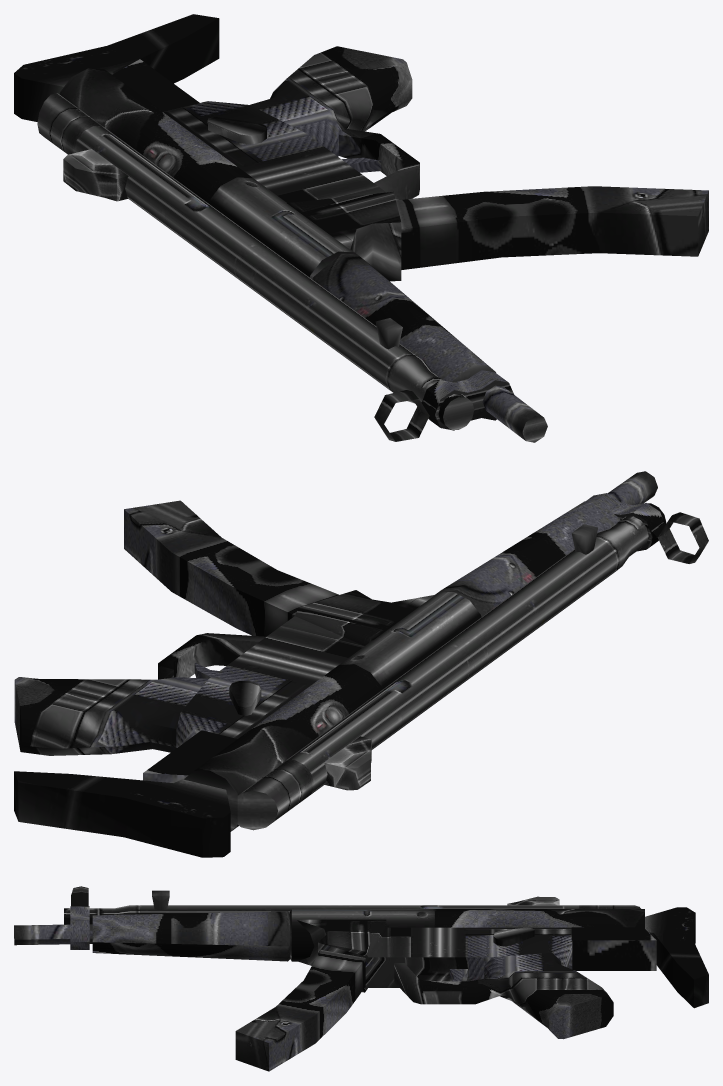
The model's file is Machine_Gun.glb.
3 views of the same model, one above another, from view 1: azimuth 30°, elevation 25°; view 2: azimuth 150°, elevation 25°; view 3: azimuth 270°, elevation 25° (orthographic). The views are drawn at different scales.
Visible parts, largest first — view 1: Machine_Gun; view 2: Machine_Gun; view 3: Machine_Gun.
Part boxes in pixels (x1,y1,x2,y2): Machine_Gun: [14, 14, 708, 442]; Machine_Gun: [14, 471, 708, 857]; Machine_Gun: [14, 886, 708, 1071].
Bounding box in the file's own units: 4.04 × 0.6225 × 7.41.
Materials: 1 (1 with a texture image).
